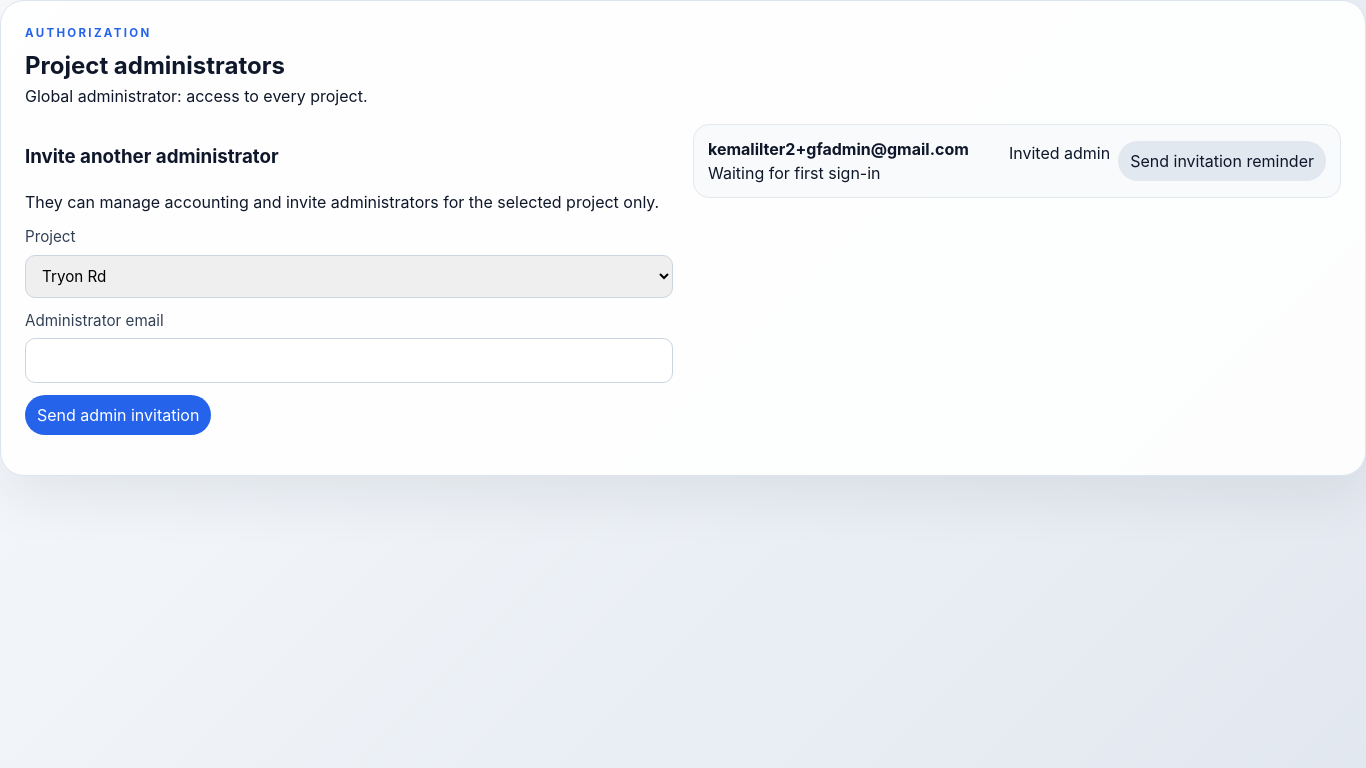
Scenario: AccessAdmin › resends email for a pending invitation
Click the button "Send invitation reminder" at (1222, 161), box [1118,141,1326,181]
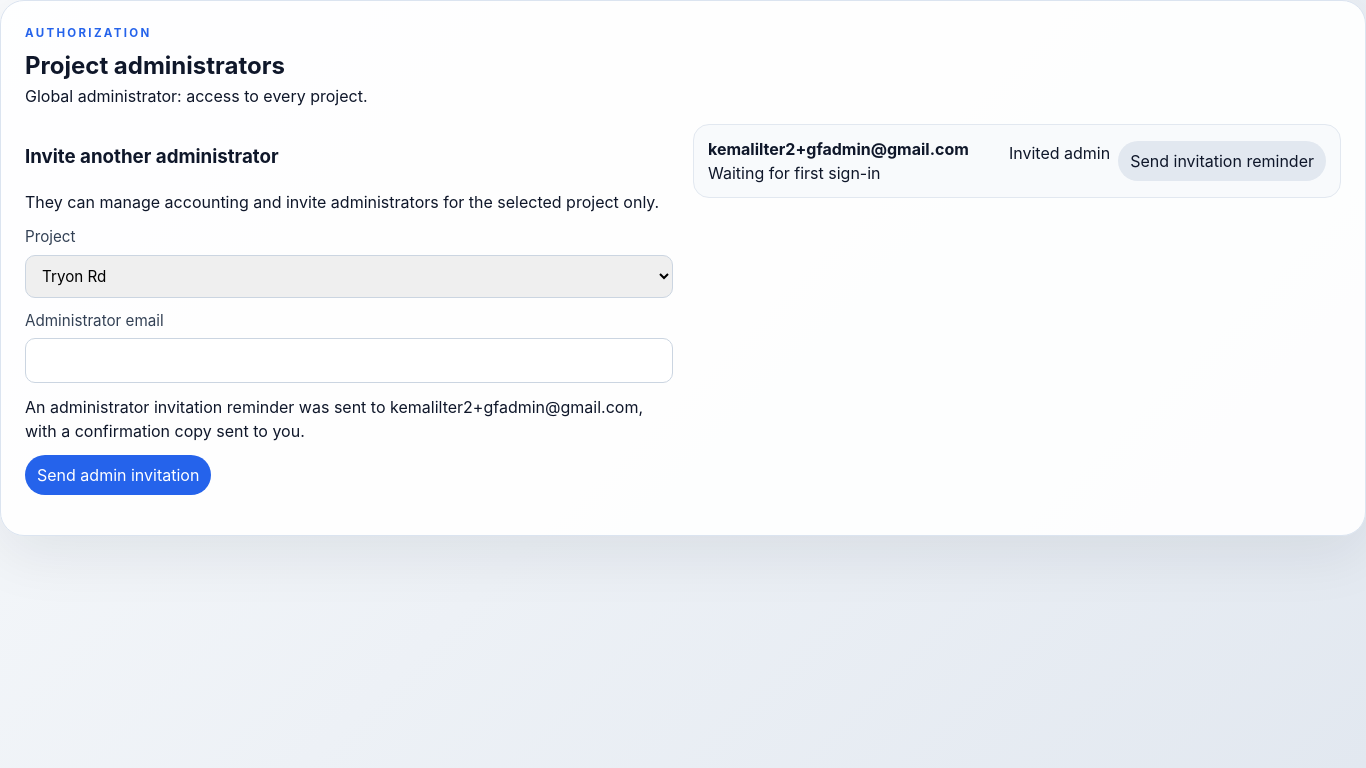
Result: the message shows "invitation reminder was sent" at [25,397,643,441]
